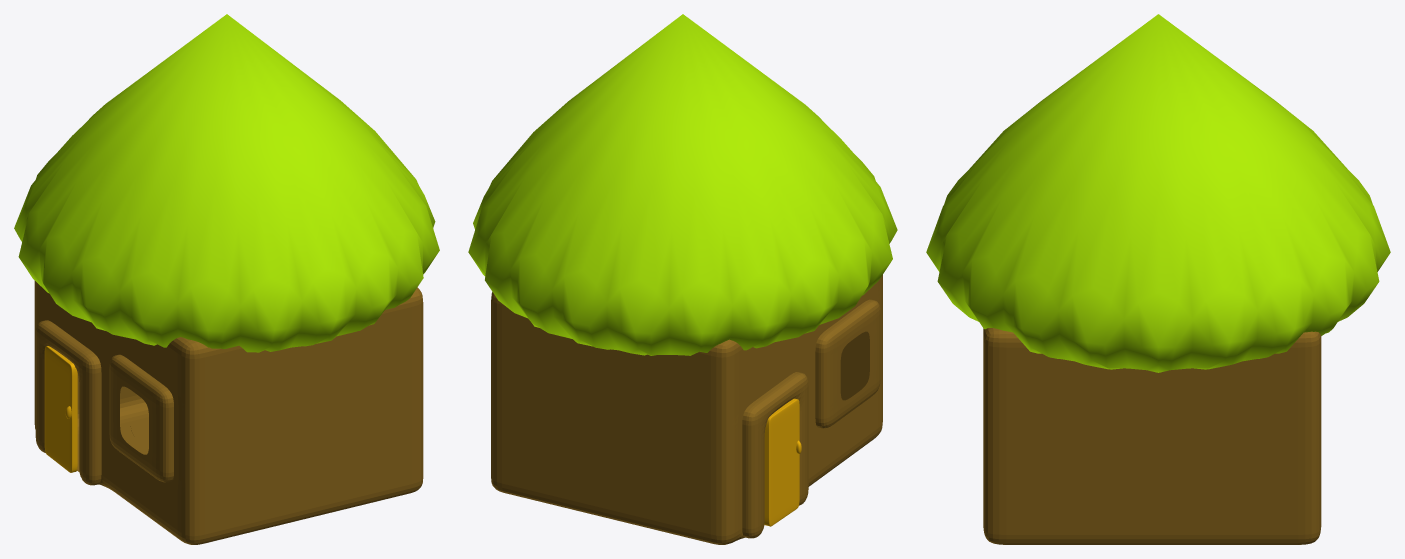
File: G1_homeModelTanzeela.fbx
The picture shows the model from 3 angles, left to right: view 1: azimuth 30°, elevation 25°; view 2: azimuth 150°, elevation 25°; view 3: azimuth 270°, elevation 25°; orthographic projection. The views are drawn at different scales.
Visible parts, largest first — view 1: pCone1, pCube1, pCube2; view 2: pCone1, pCube1, pCube2; view 3: pCone1, pCube1.
Boxes of the visible parts, box(x1,y1,x2,y2) form: pCone1: box(14, 14, 439, 352); pCube1: box(34, 280, 423, 544); pCube2: box(44, 346, 77, 472); pCone1: box(468, 14, 897, 355); pCube1: box(491, 275, 882, 544); pCube2: box(764, 398, 801, 526); pCone1: box(926, 14, 1390, 372); pCube1: box(983, 328, 1321, 544).
Size of the model in its own units: 14.95 by 17.46 by 15.5.
